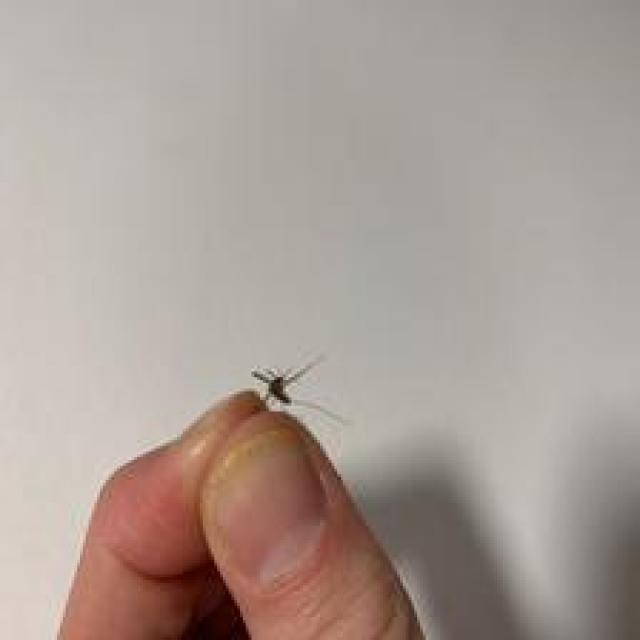Culex: (248, 352, 352, 428)
